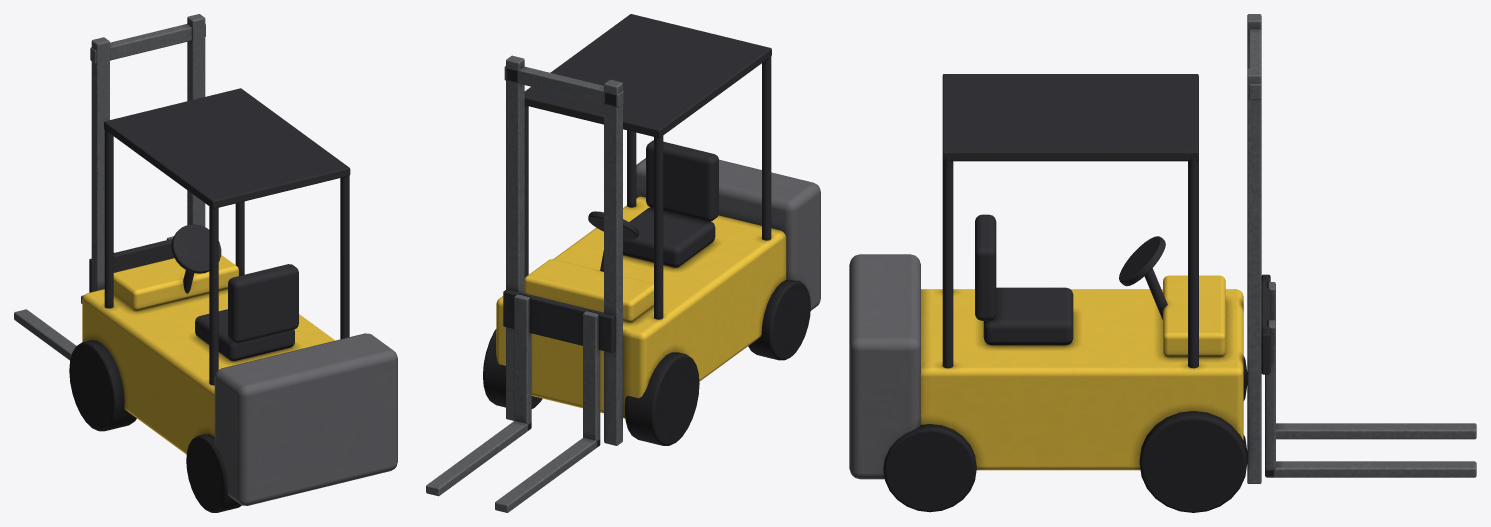
Rendered from gaffeltruck.glb.
The picture shows the model from 3 angles, left to right: view 1: azimuth 30°, elevation 25°; view 2: azimuth 150°, elevation 25°; view 3: azimuth 270°, elevation 25°; orthographic projection. The views are drawn at different scales.
Parts seen in each view (by area): view 1: gaffeltruck; view 2: gaffeltruck; view 3: gaffeltruck.
Part boxes in pixels (x1=…): gaffeltruck: x1=14, y1=14, x2=397, y2=512; gaffeltruck: x1=426, y1=14, x2=820, y2=512; gaffeltruck: x1=849, y1=14, x2=1476, y2=512.
Bounding box in the file's own units: 1.26 × 2.6 × 3.5.
Materials: 1 (1 with a texture image).
